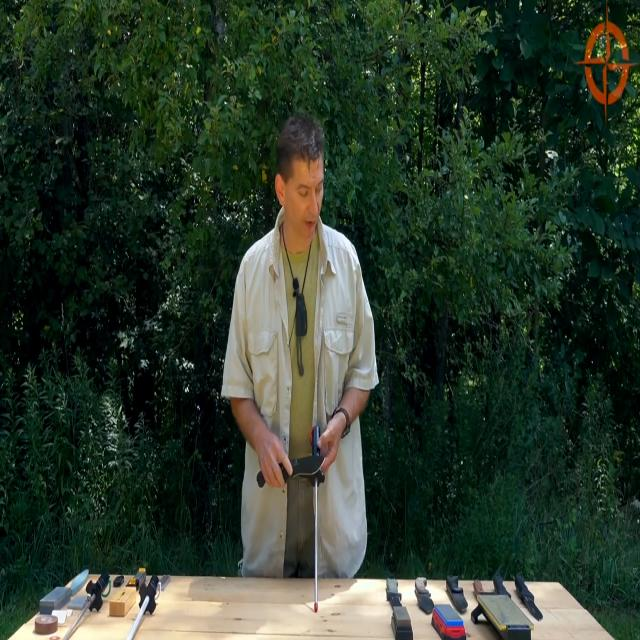knife: (513, 572, 547, 626), (413, 567, 437, 618), (290, 449, 328, 481), (446, 570, 470, 616)
